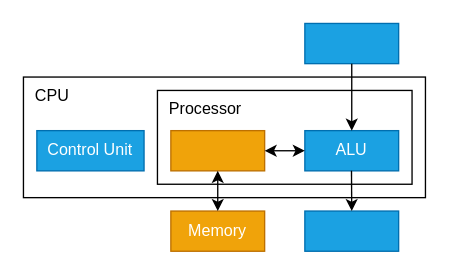
Image size: 449x275. Some labels were removed from this diagram. Here are the shapes that lost their labels. From the top down, the box of each, then its label:
(304, 22, 399, 64): Input
(170, 129, 265, 171): Registers
(304, 210, 399, 251): Output
